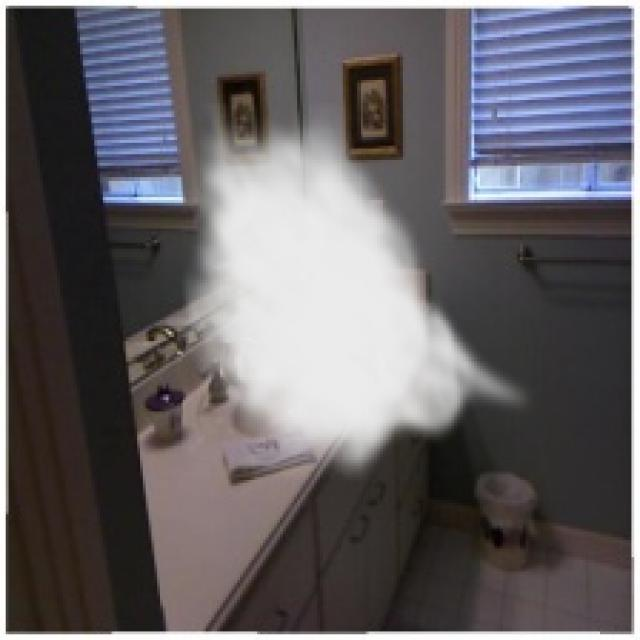smoke: (174, 100, 537, 486)
